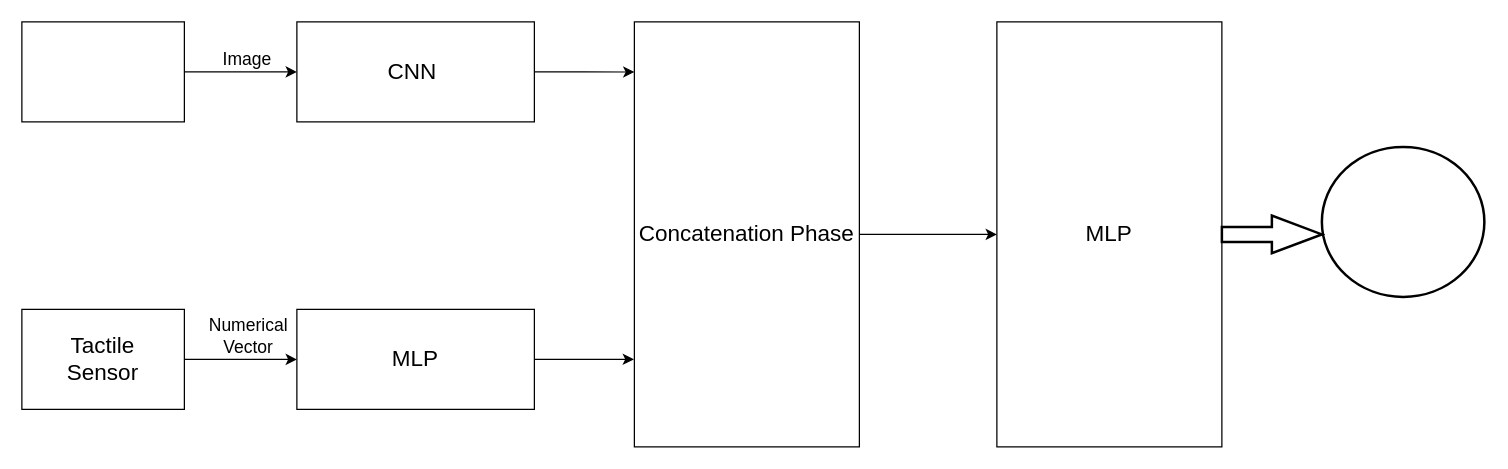
Some shapes in this 1508 by 469 pixel diagram are drawn without their labels. Each missing label, with the box of its shape:
Optical Sensor: (21, 21, 184, 122)
Precision or Power Grasp: (1320, 145, 1485, 298)
